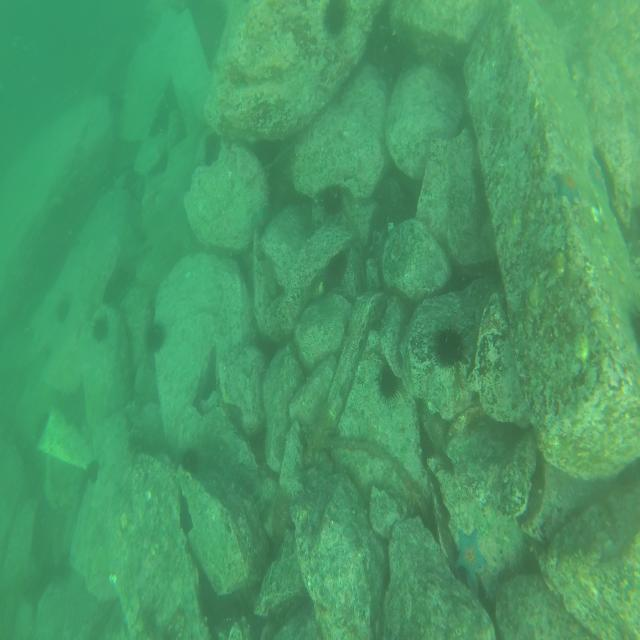echinus: (434, 328, 464, 367), (325, 0, 350, 39), (377, 364, 400, 401), (322, 183, 343, 220), (92, 313, 112, 345), (145, 323, 165, 353)
starfish: (455, 528, 485, 588)
